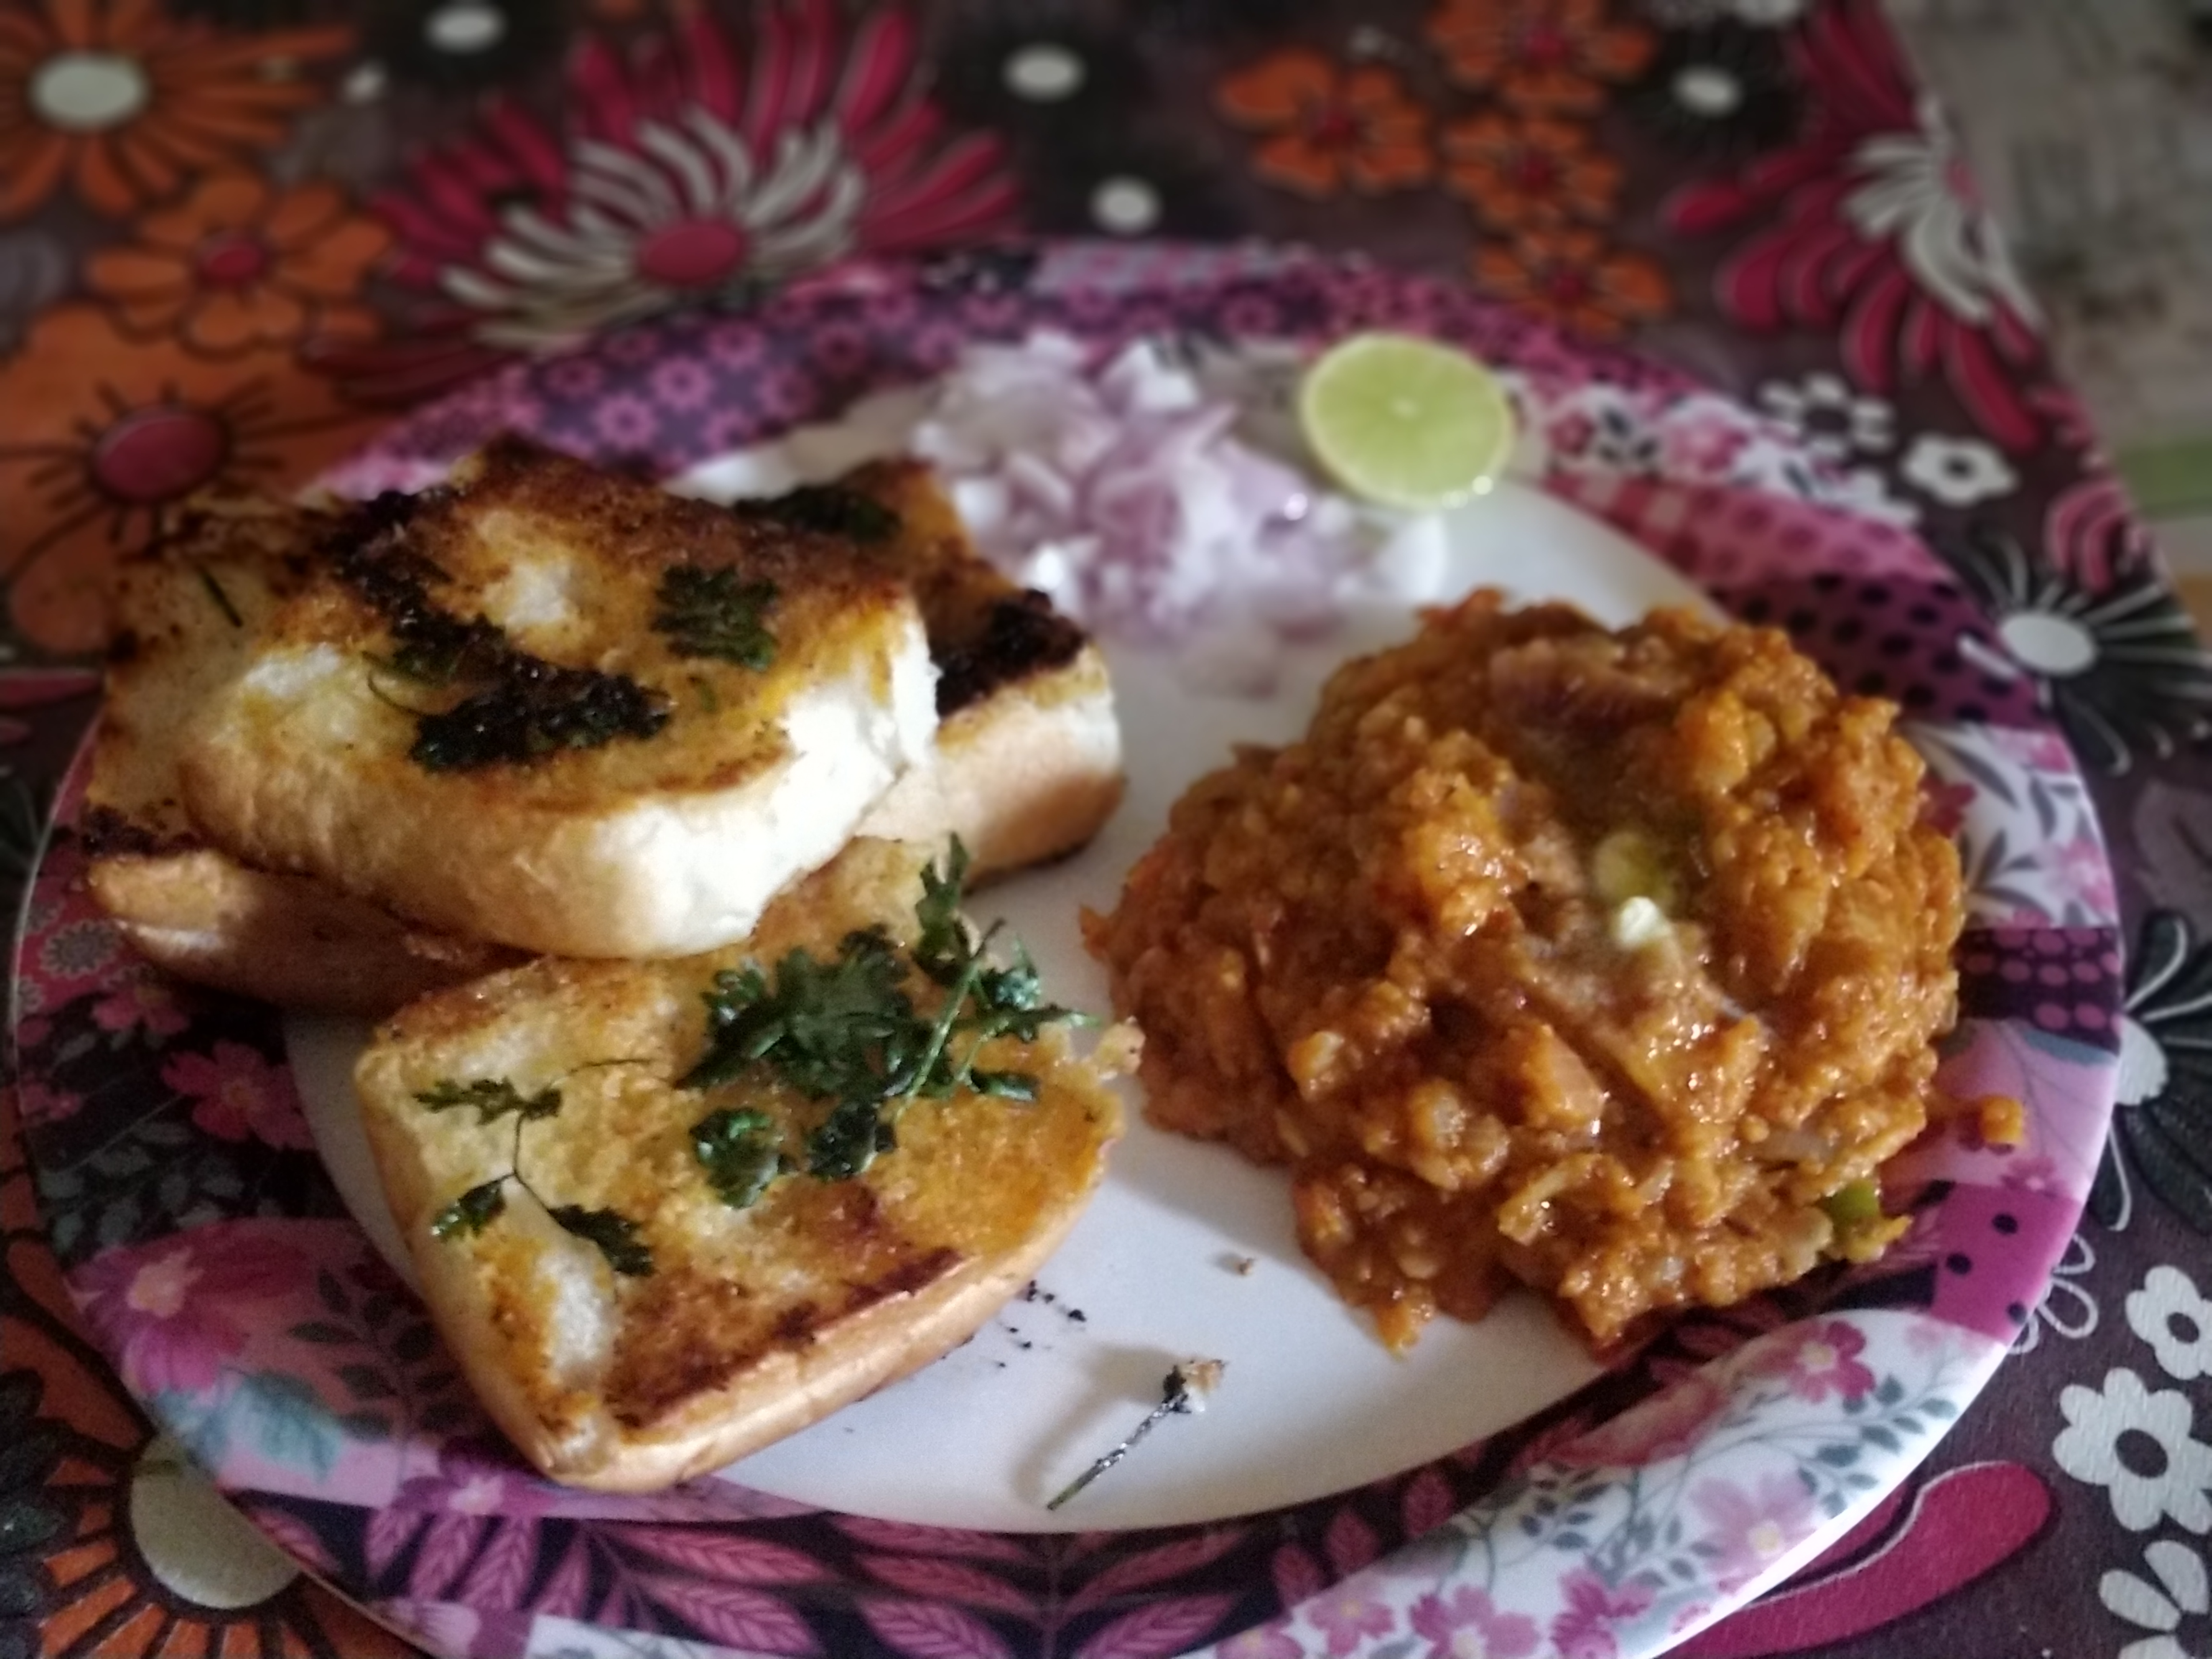food: (45, 308, 2027, 1507)
